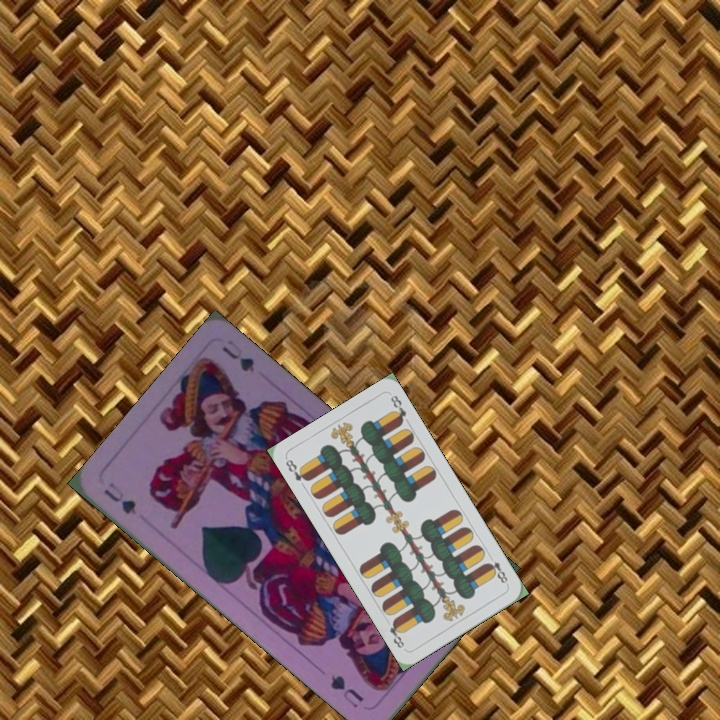E8: (482, 551, 511, 588), (281, 455, 312, 484)
GU: (99, 478, 139, 518)
